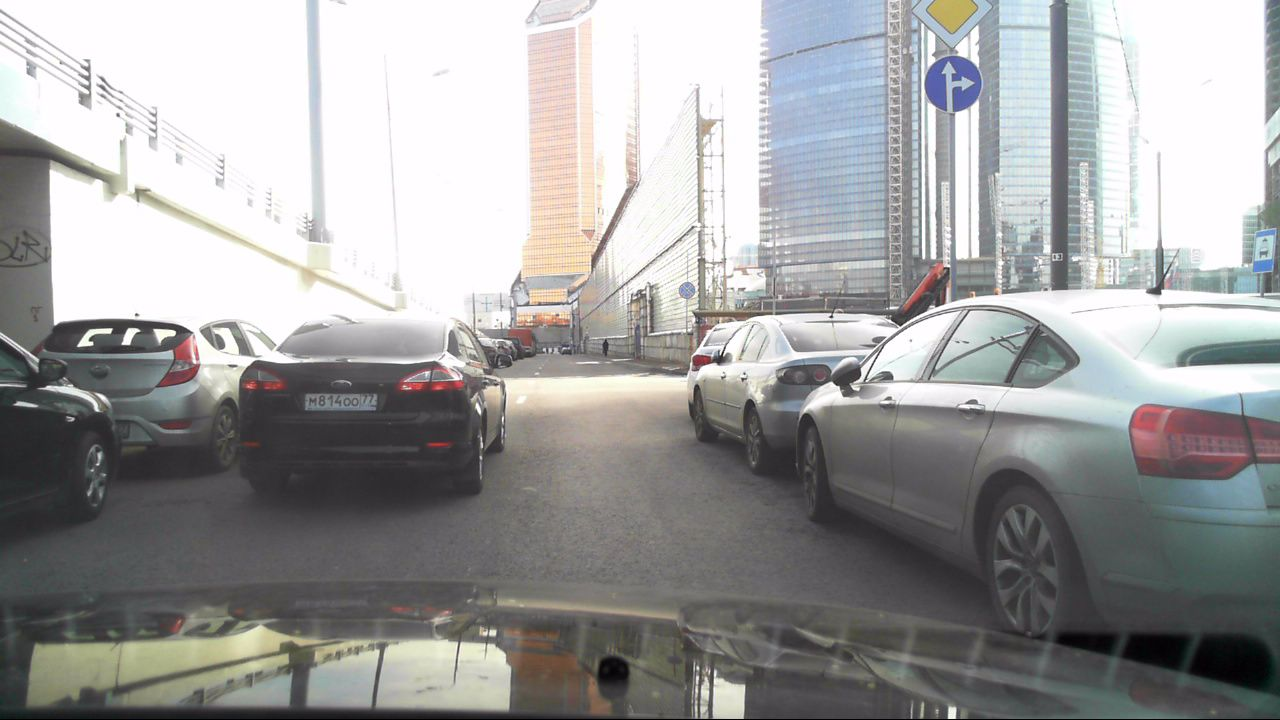No Parking: (679, 281, 696, 301)
